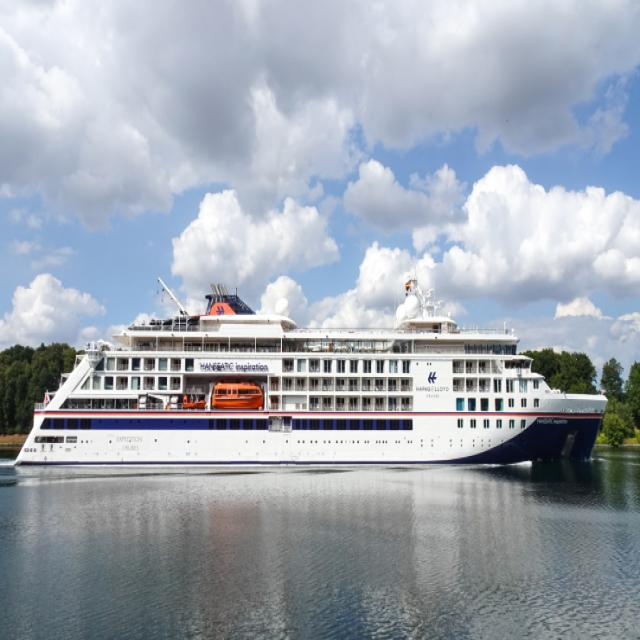cruises: (11, 276, 614, 478)
